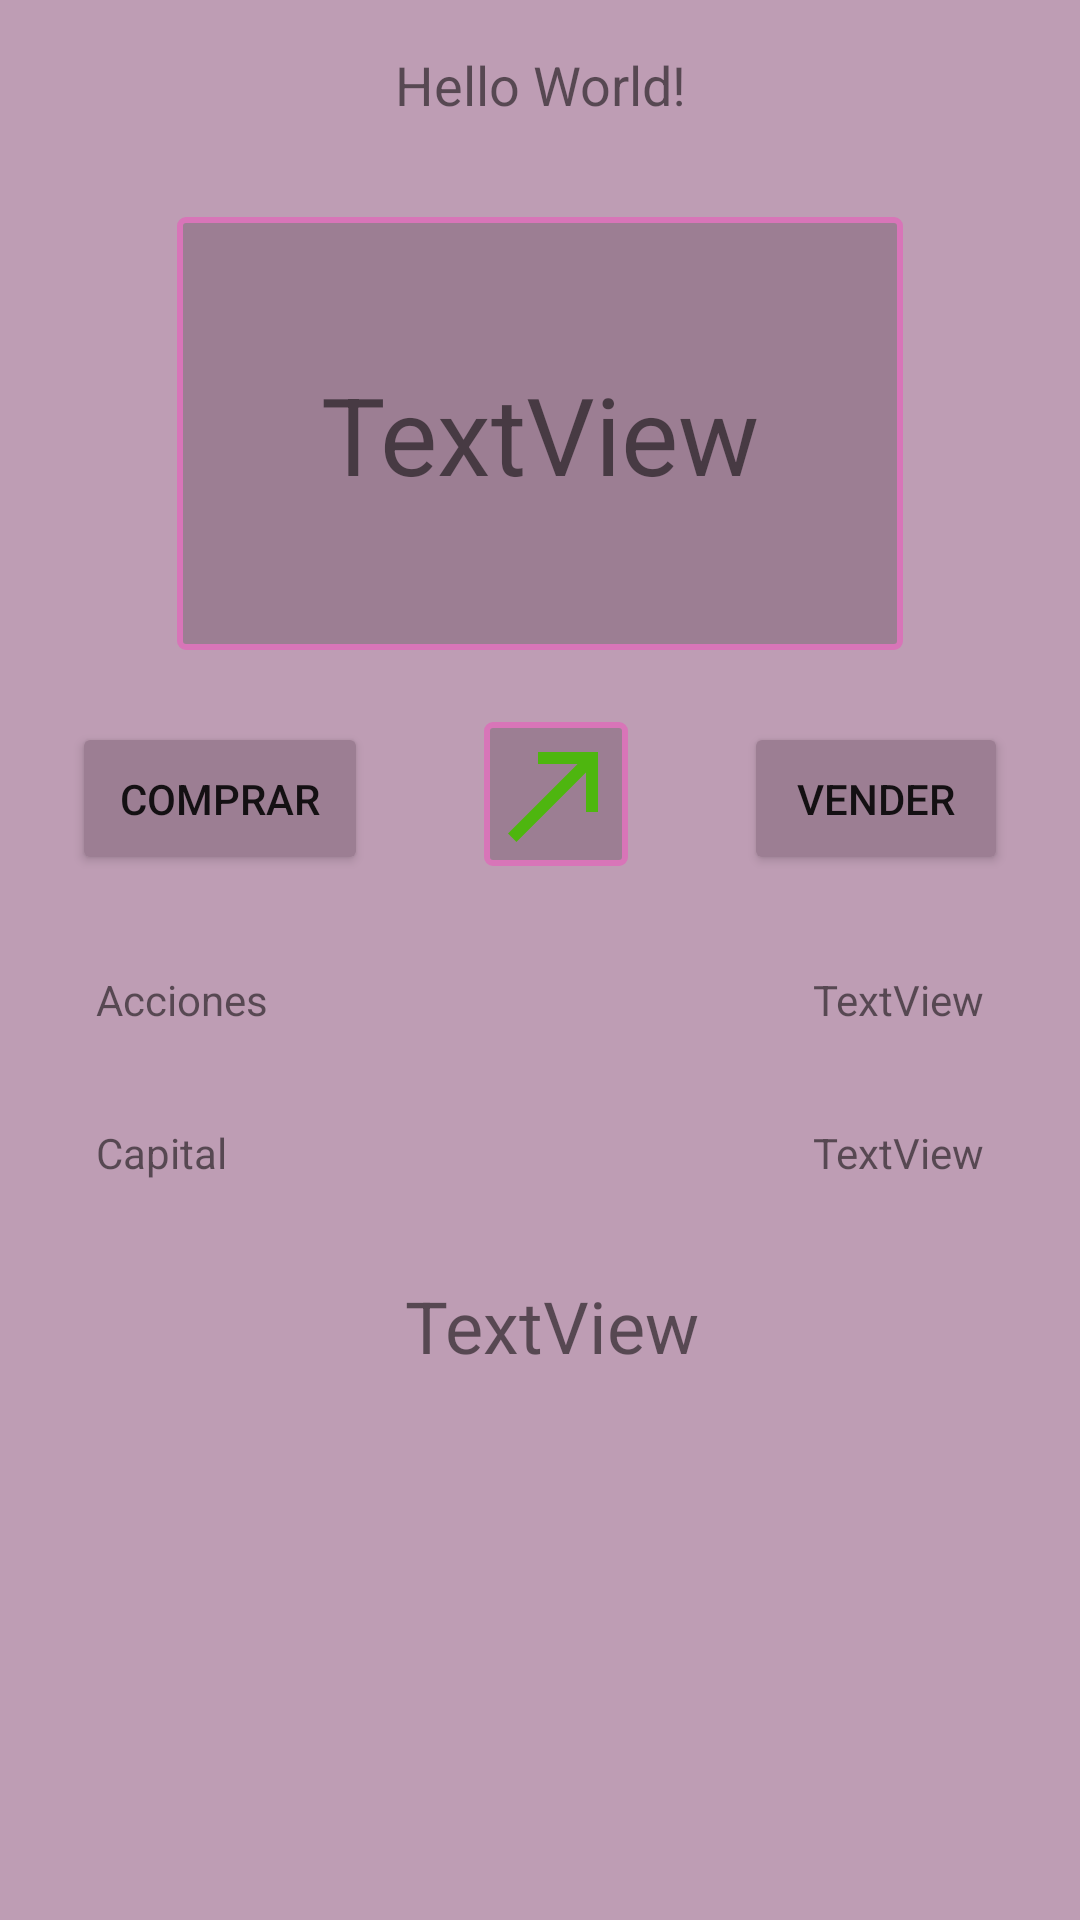

Locate icon controls on the screen. Image size 1080 × 1920, boxes as (x1, y1, x2, y2).
flecha sube: (484, 722, 628, 866)
